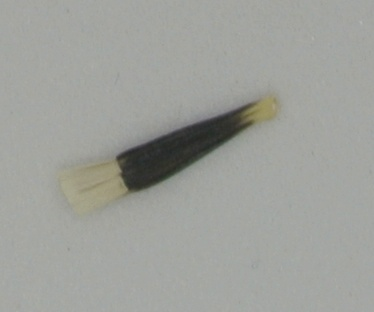เมล็ดดีติดกัน: (38, 93, 291, 223)
